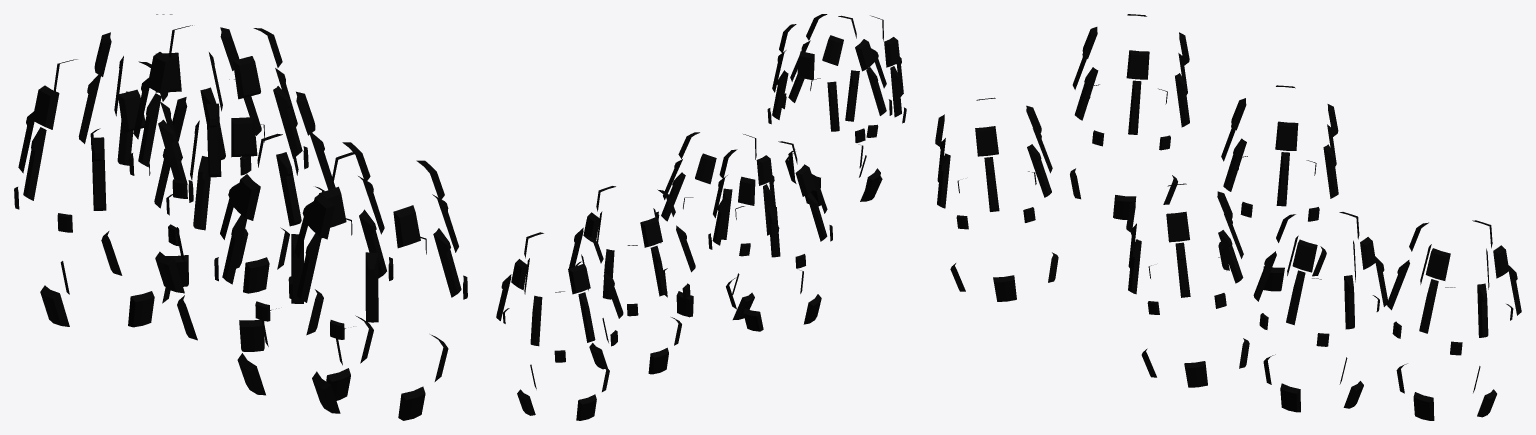
The model's file is prop_static_yao_container_01_07.glb.
3 views of the same model, side by side, from view 1: azimuth 30°, elevation 25°; view 2: azimuth 150°, elevation 25°; view 3: azimuth 270°, elevation 25° (orthographic). The views are drawn at different scales.
Parts seen in each view (by area): view 1: yao_container_01_07_LOD0; view 2: yao_container_01_07_LOD0; view 3: yao_container_01_07_LOD0.
Part boxes in pixels (x1,y1,x2,y2): yao_container_01_07_LOD0: (14, 14, 467, 420); yao_container_01_07_LOD0: (496, 14, 906, 420); yao_container_01_07_LOD0: (935, 14, 1521, 420).
Size of what is drawn, in the model's own units: 4.49 by 5.35 by 9.01.
1 material, 1 textured.
